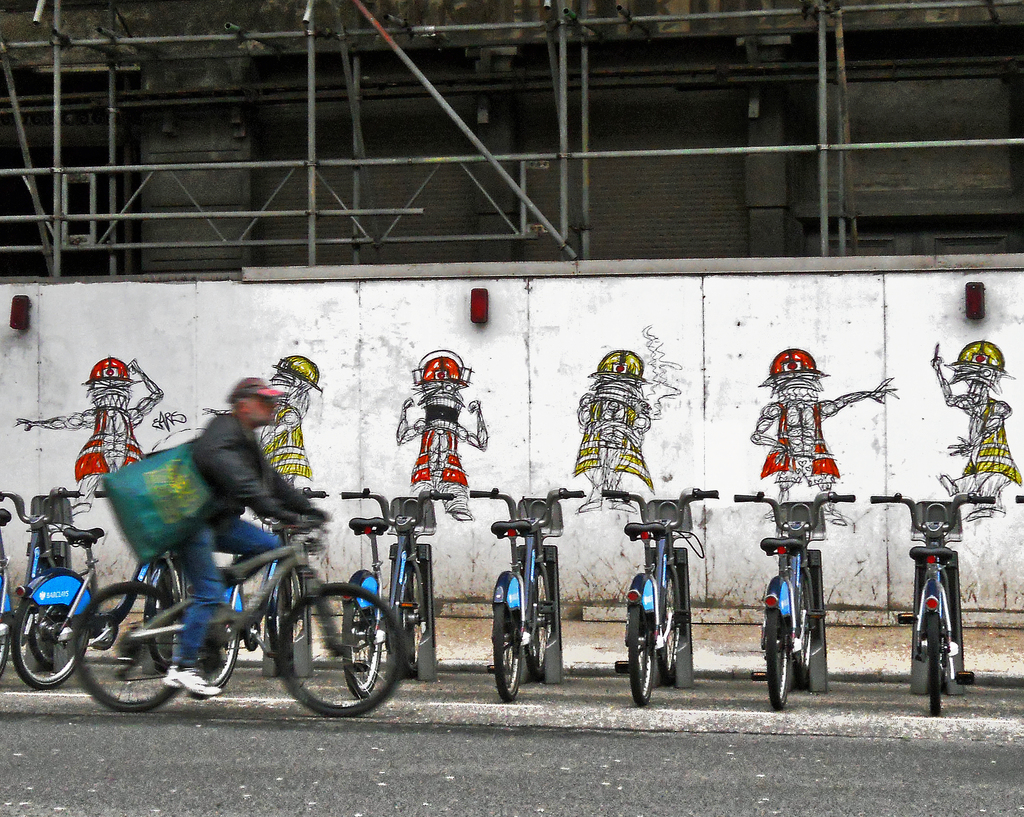Bike_away: (74, 499, 410, 719)
